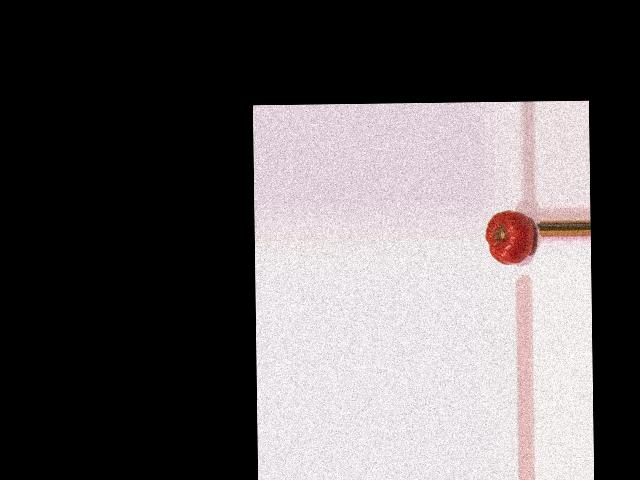tomato: (485, 210, 534, 264)
